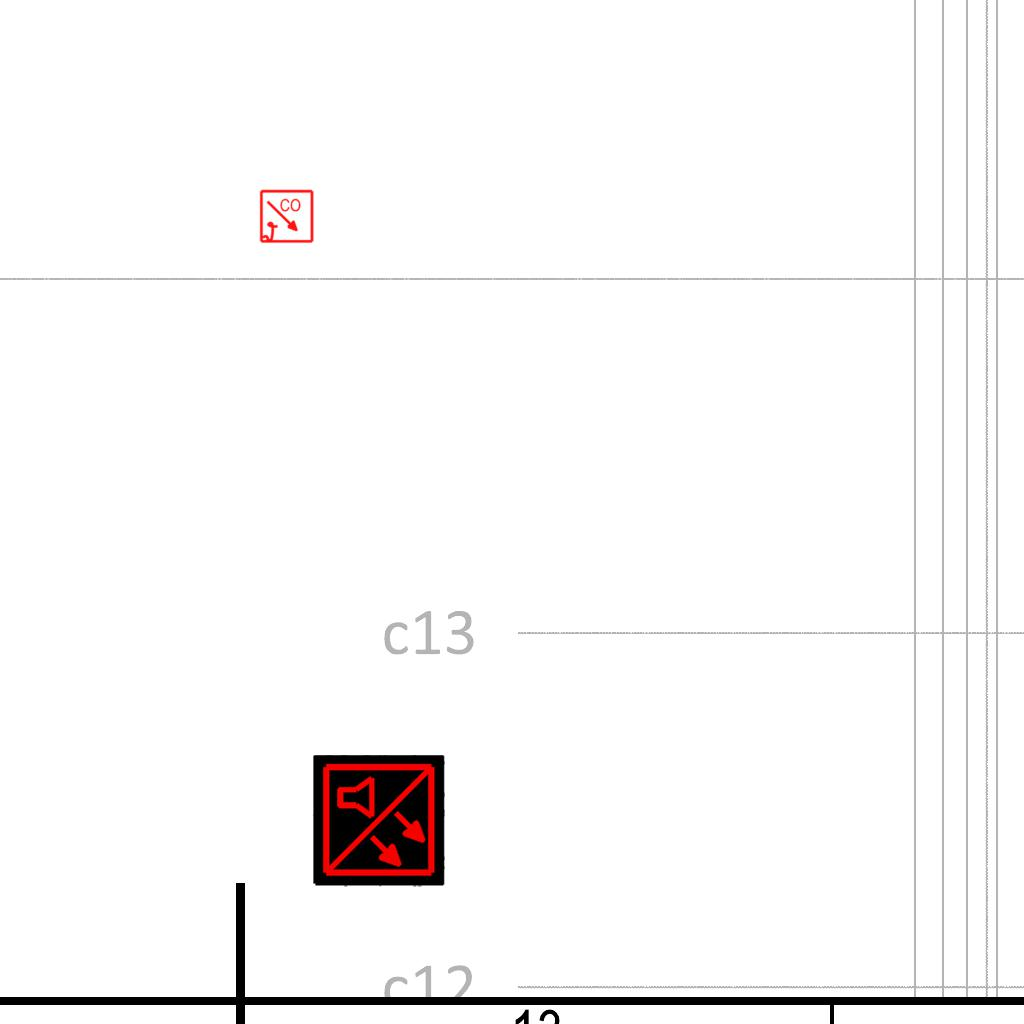OKW_Multisensormelder_(Kombination_optischer_Rauch-Kahlenmonoxid_Waerme-Melder): (313, 755, 445, 887)
ROA_Rauchmelder_optisch_mit_Signalgeber_(Sockelsirene): (259, 189, 315, 245)
